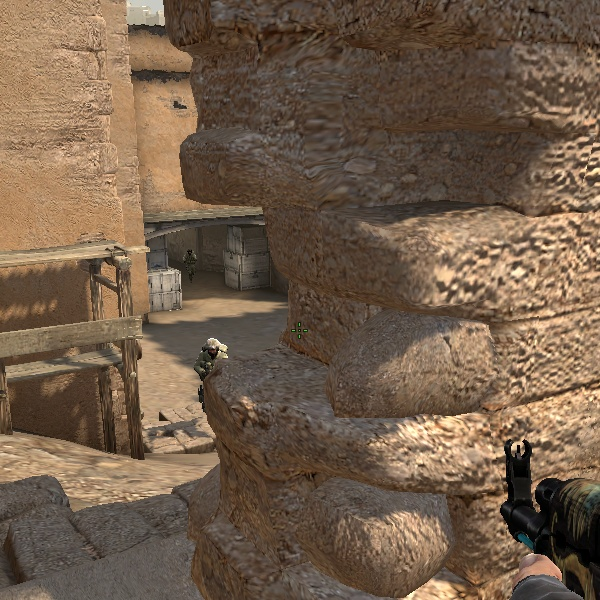ct_body: (185, 335, 236, 373)
